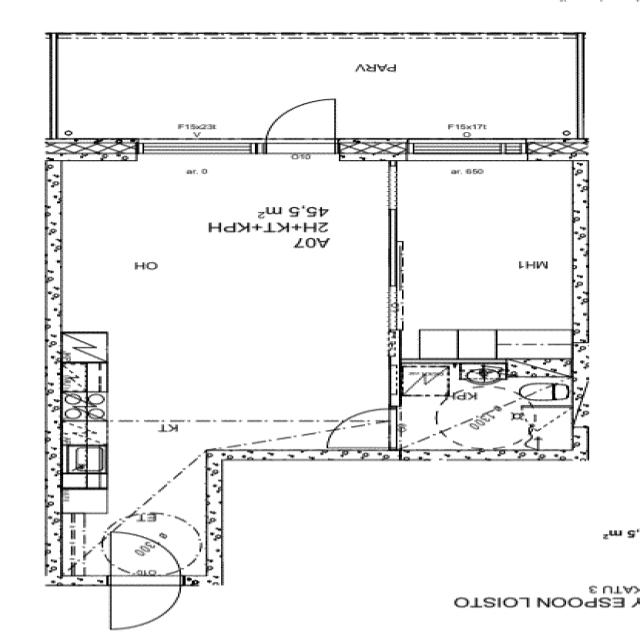door: (264, 94, 344, 150), (107, 574, 183, 632), (328, 405, 399, 448), (152, 514, 201, 542)
window: (400, 135, 530, 163), (132, 137, 260, 161)
zone: (390, 157, 589, 357), (396, 362, 575, 458), (54, 516, 110, 584), (106, 530, 177, 581), (58, 394, 108, 446)
